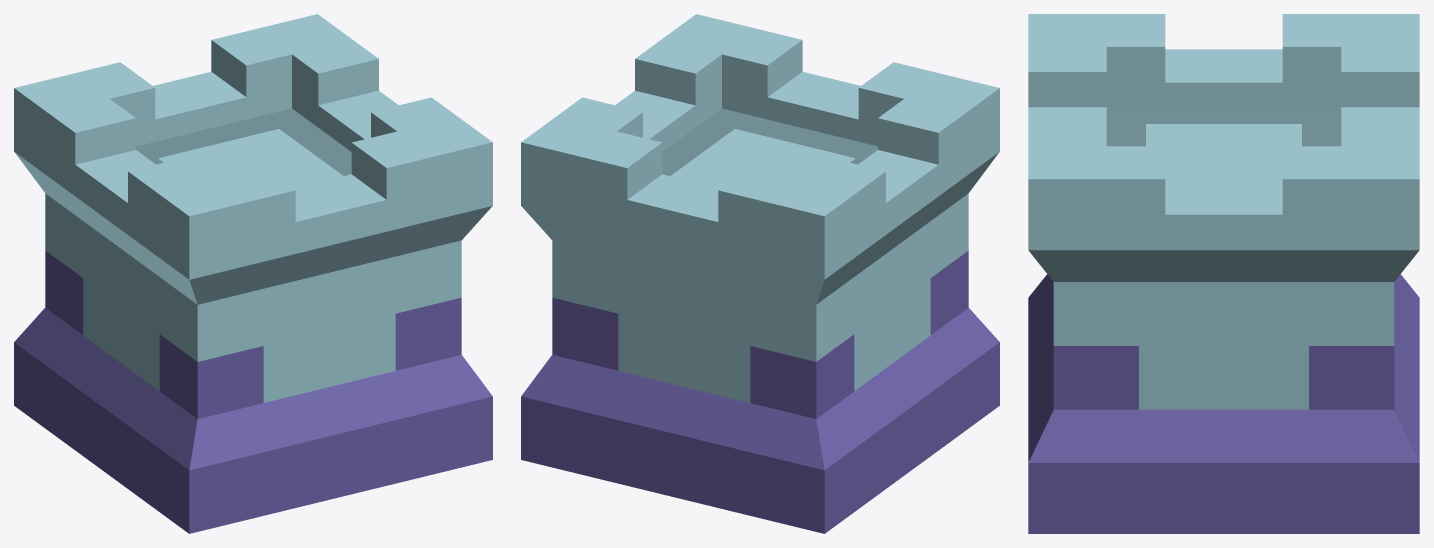
File: towersquare_samplef.fbx
3 renders of one model, left to right at view 1: azimuth 30°, elevation 25°; view 2: azimuth 150°, elevation 25°; view 3: azimuth 270°, elevation 25°, orthographic. The views are drawn at different scales.
Parts seen in each view (by area): view 1: towerSquare_sampleF; view 2: towerSquare_sampleF; view 3: towerSquare_sampleF.
Part boxes in pixels (x1,y1,x2,y2): towerSquare_sampleF: [14, 14, 492, 533]; towerSquare_sampleF: [521, 14, 999, 533]; towerSquare_sampleF: [1028, 14, 1419, 533].
Bounding box in the file's own units: 10 × 10 × 10.
